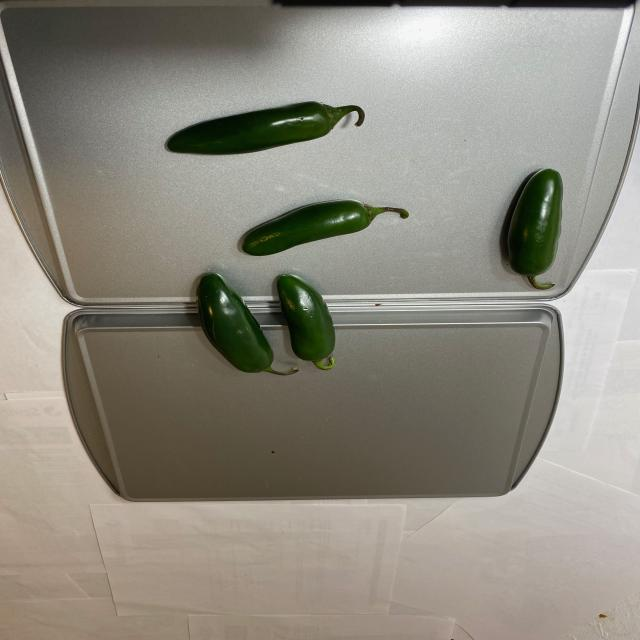chilli: (181, 99, 566, 377)
